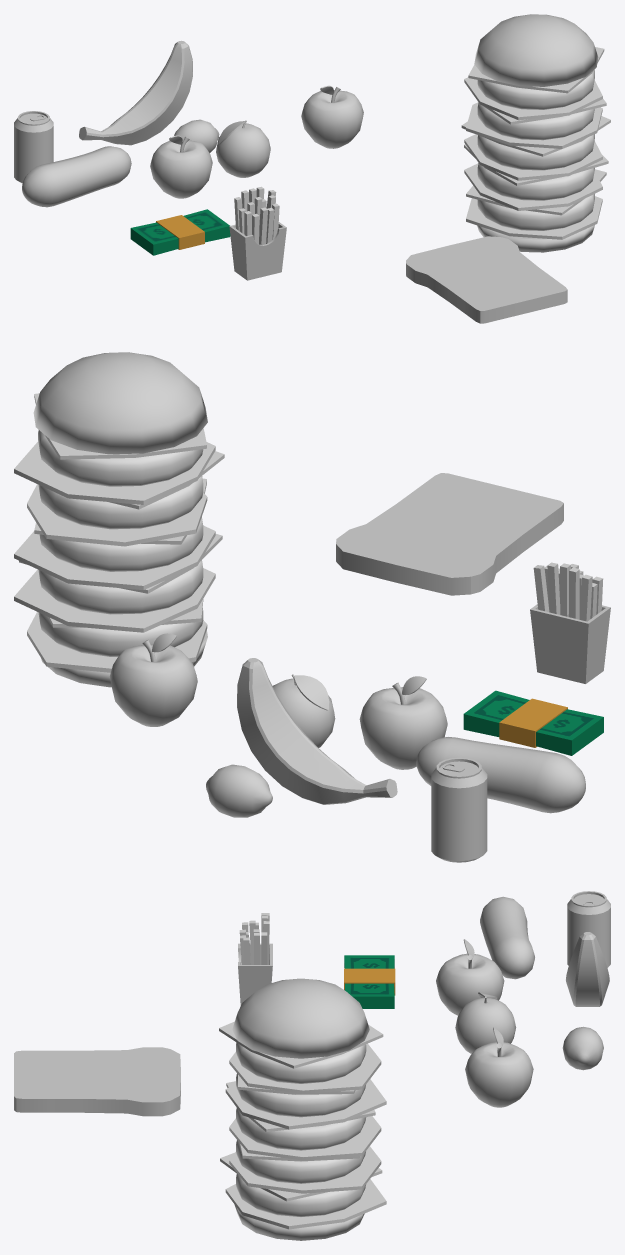
Rendered from Food.FBX.
3 renders of one model, top to bottom at view 1: azimuth 30°, elevation 25°; view 2: azimuth 150°, elevation 25°; view 3: azimuth 270°, elevation 25°, orthographic. The views are drawn at different scales.
Visible parts, largest first — view 1: Box032, Sphere011, Cylinder019, Capsule001, Sphere003, Sphere007, Box003, Sphere005, Cylinder017, Cylinder023, Box004, Cylinder022 (+15 smaller); view 2: Box032, Sphere011, Cylinder019, Capsule001, Sphere007, Box003, Sphere003, Cylinder017, Box004, Cylinder025, Cylinder024, Cylinder022 (+11 smaller); view 3: Box032, Sphere011, Sphere007, Capsule001, Sphere003, Cylinder025, Box003, Cylinder023, Sphere005, Cylinder019, Cylinder021, Cylinder022 (+12 smaller).
Part boxes in pixels (x1=…): Box032: x1=406, y1=236, x2=567, y2=323; Sphere011: x1=474, y1=14, x2=598, y2=86; Cylinder019: x1=79, y1=40, x2=192, y2=145; Capsule001: x1=22, y1=146, x2=131, y2=207; Sphere003: x1=150, y1=135, x2=212, y2=198; Sphere007: x1=301, y1=85, x2=363, y2=148; Box003: x1=130, y1=209, x2=230, y2=255; Sphere005: x1=216, y1=120, x2=270, y2=177; Cylinder017: x1=14, y1=111, x2=53, y2=183; Cylinder023: x1=477, y1=134, x2=594, y2=170; Box004: x1=229, y1=222, x2=286, y2=280; Cylinder022: x1=477, y1=163, x2=594, y2=200; Box032: x1=336, y1=473, x2=563, y2=595; Sphere011: x1=33, y1=352, x2=207, y2=454; Cylinder019: x1=237, y1=658, x2=397, y2=804; Capsule001: x1=416, y1=737, x2=585, y2=813; Sphere007: x1=109, y1=633, x2=197, y2=726; Box003: x1=463, y1=690, x2=603, y2=755; Sphere003: x1=359, y1=676, x2=447, y2=769; Cylinder017: x1=431, y1=757, x2=487, y2=862; Box004: x1=530, y1=604, x2=610, y2=683; Cylinder025: x1=38, y1=430, x2=203, y2=486; Cylinder024: x1=38, y1=476, x2=203, y2=529; Cylinder022: x1=38, y1=560, x2=203, y2=614; Box032: x1=14, y1=1047, x2=180, y2=1116; Sphere011: x1=232, y1=978, x2=369, y2=1058; Sphere007: x1=465, y1=1027, x2=533, y2=1107; Capsule001: x1=480, y1=896, x2=534, y2=979; Sphere003: x1=436, y1=939, x2=504, y2=1015; Cylinder025: x1=236, y1=1042, x2=366, y2=1083; Box003: x1=344, y1=955, x2=395, y2=1008; Cylinder023: x1=236, y1=1108, x2=366, y2=1150; Sphere005: x1=455, y1=992, x2=516, y2=1053; Cylinder019: x1=566, y1=932, x2=609, y2=1006; Cylinder021: x1=236, y1=1174, x2=366, y2=1216; Cylinder022: x1=236, y1=1140, x2=365, y2=1183.
Size of the model in its own units: 756 by 313 by 732.
